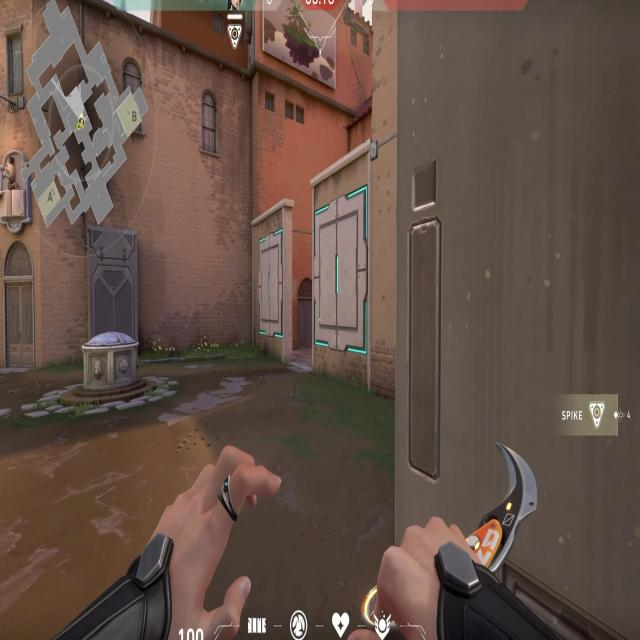Mid_Wall: (307, 168, 381, 388), (248, 208, 290, 356)
